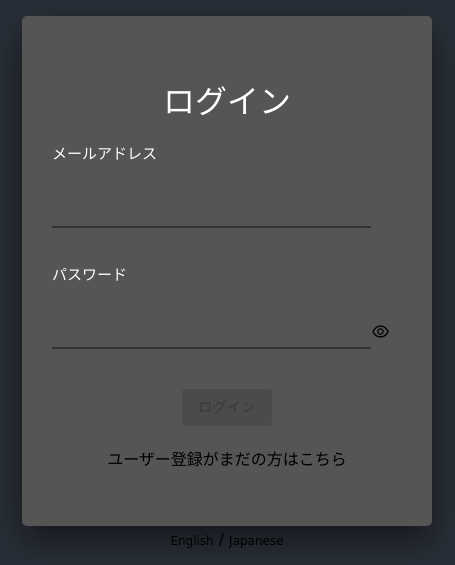
Login.tsx › should be loginButton actived
The width and height of the screenshot is (455, 565).
メールアドレス入力
Type "testLoginMailAddress" into the field.
click(212, 213); type("testLoginMailAddress")  # box [52,198,371,228]
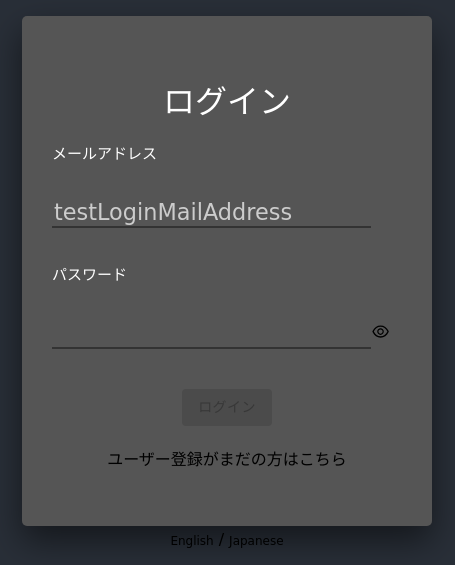
Expected: the button is disabled, [182,389,272,426]
Type "testLoginPassword" into the password field with test id "loginPassword".
click(212, 334); type("testLoginPassword")  # box [52,319,371,349]
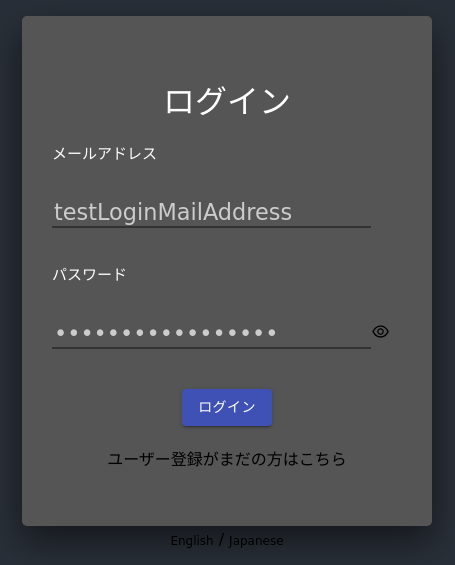
Expected: the button is enabled, [182,389,272,426]
